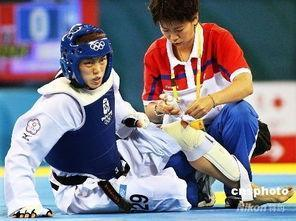Fall-Detected: (0, 20, 244, 215)
